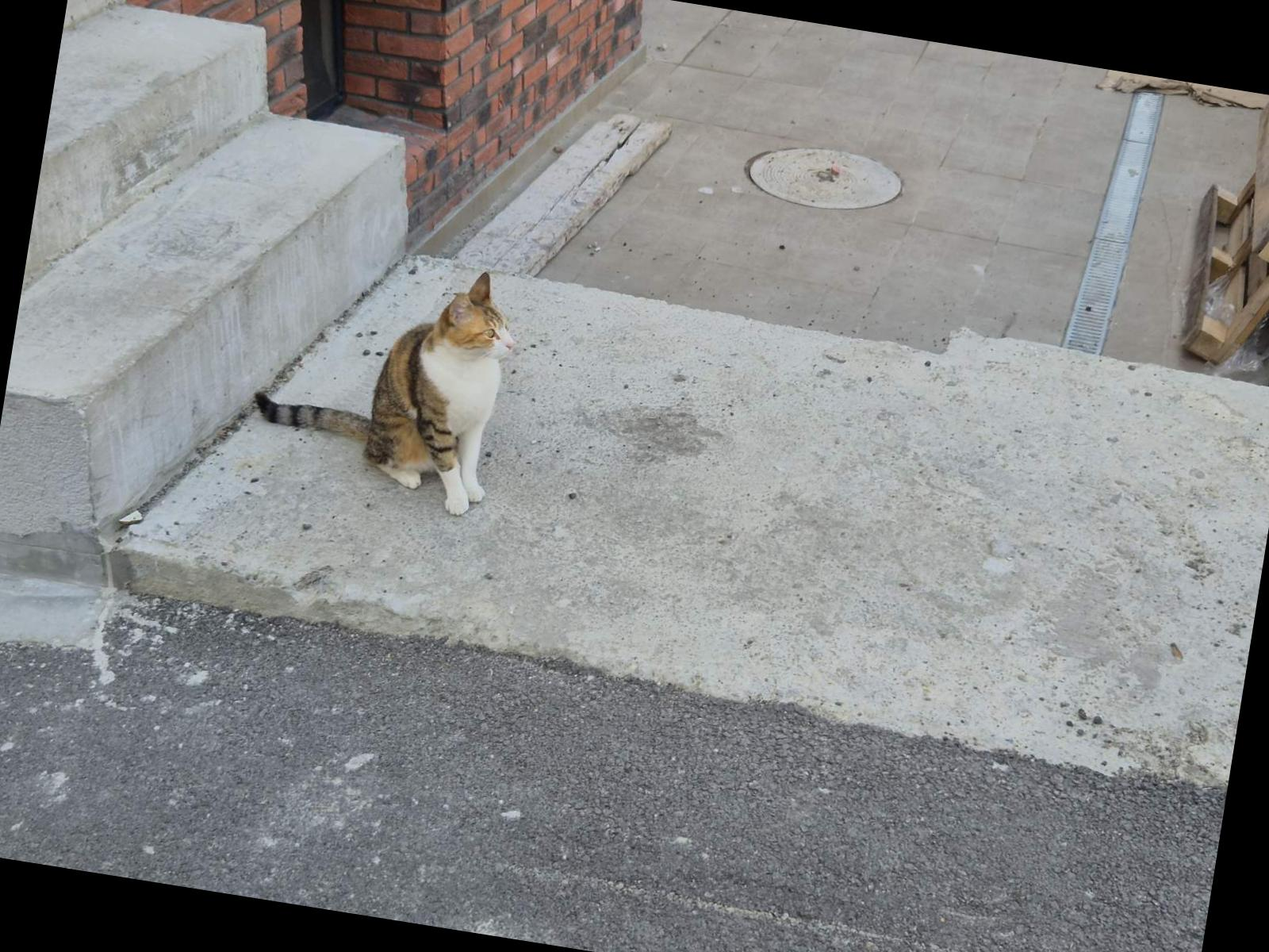macka: (241, 238, 527, 520)
